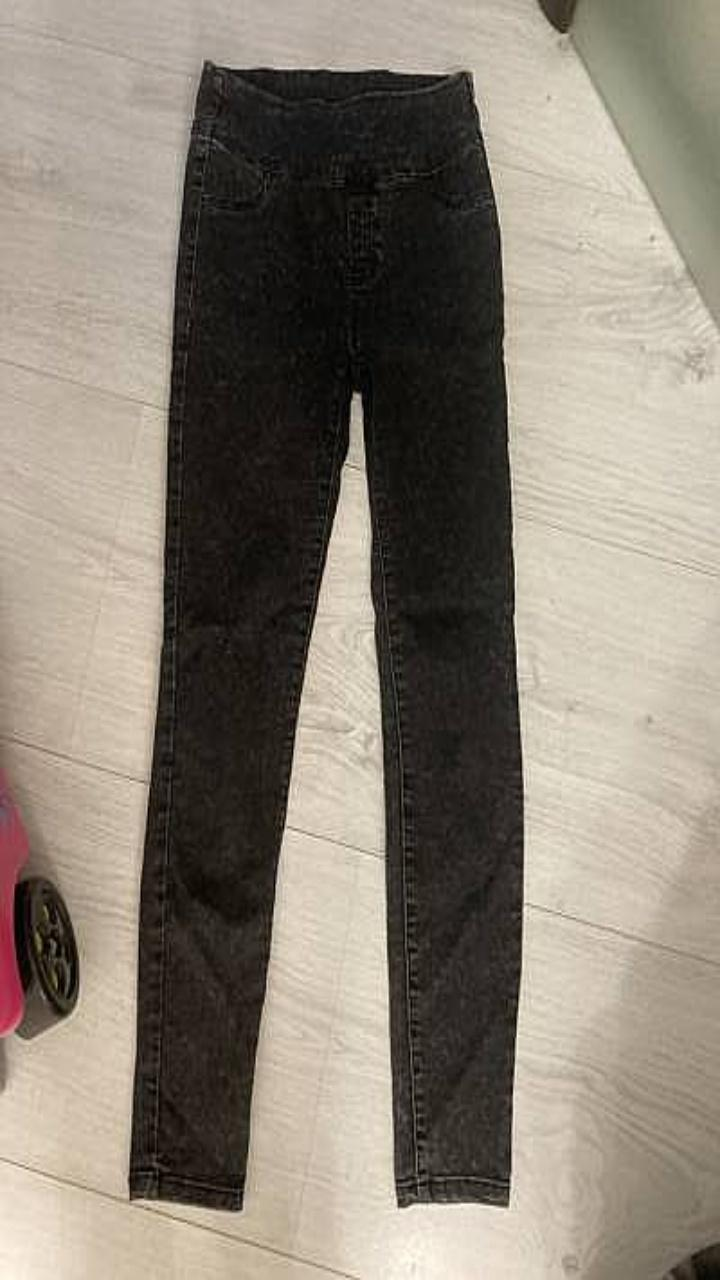Jeans: (129, 61, 522, 1209)
